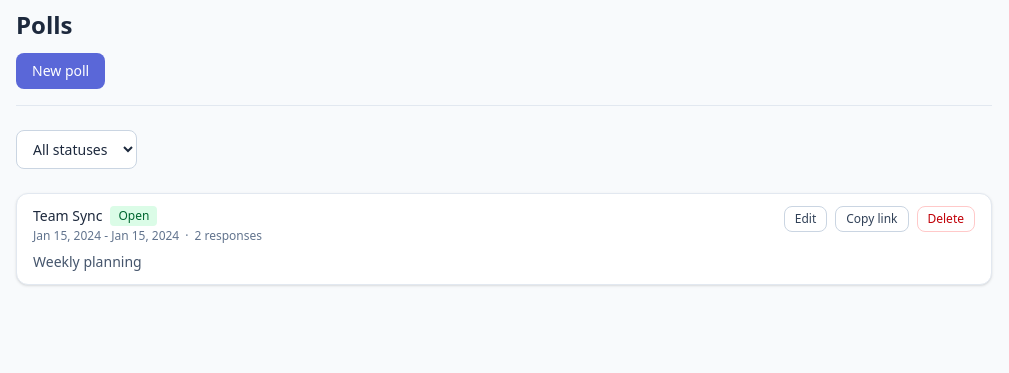
Test: PollList - populated list › links the title to results and Edit to the editor, and copies the respond link
The image size is (1009, 373).
Click the button "Copy link" at (872, 219), box [835,206,909,232]
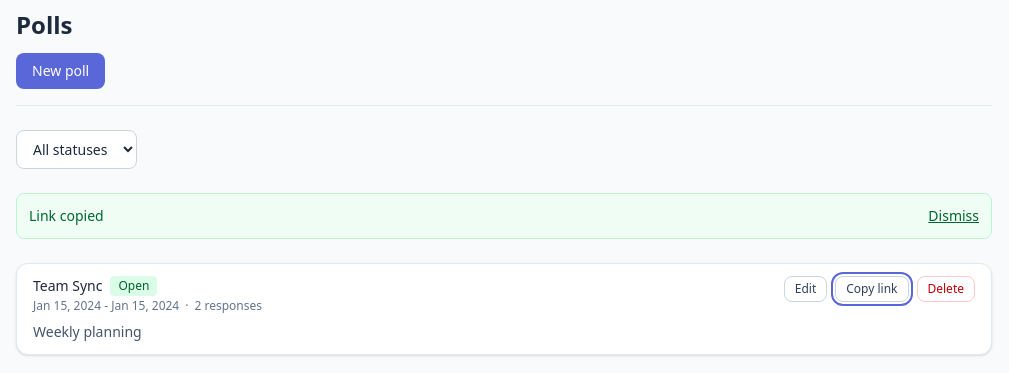
Expected: the text "Link copied" is shown, [29,206,104,226]
